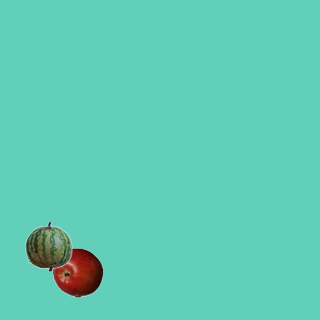Apple Braeburn: (52, 247, 102, 297)
Watermelon: (23, 221, 73, 271)
